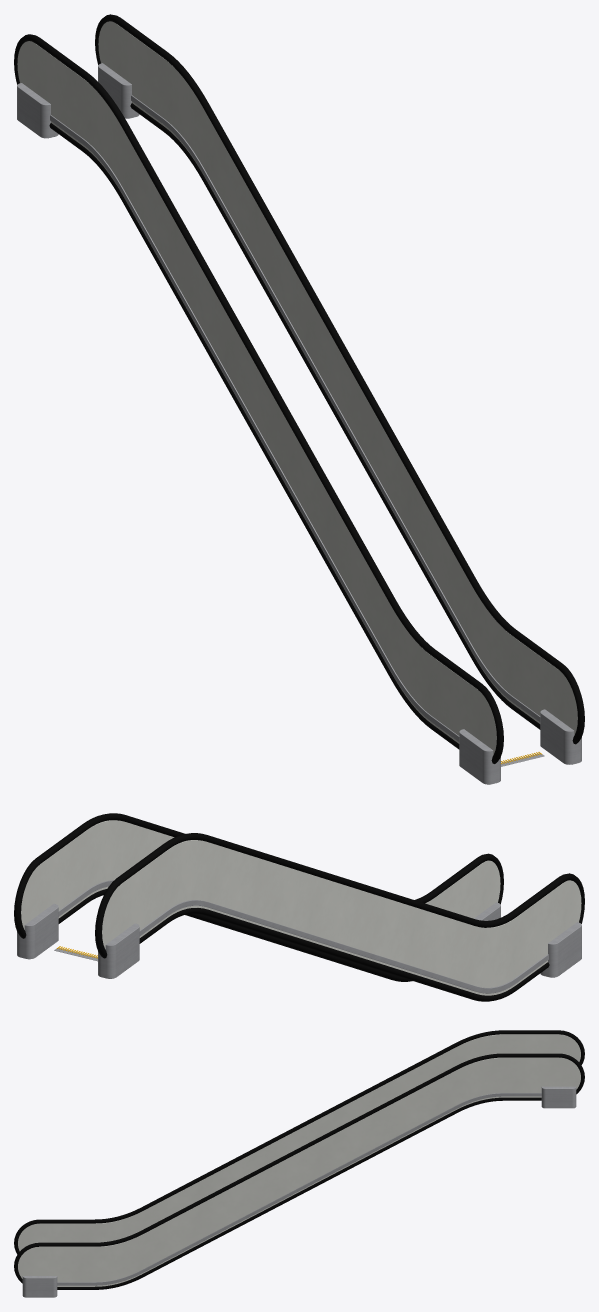
Rendered from gteki_escalator_dress_s600_r3500_panel.glb.
The picture shows the model from 3 angles, top to bottom: view 1: azimuth 30°, elevation 25°; view 2: azimuth 150°, elevation 25°; view 3: azimuth 270°, elevation 25°; orthographic projection. The views are drawn at different scales.
Visible parts, largest first — view 1: VIS_balustrades, VIS_moving_handrails, VIS_balustrade_shoes, VIS_newel_bases; view 2: VIS_balustrades, VIS_moving_handrails, VIS_newel_bases, VIS_balustrade_shoes, VIS_comb_plates; view 3: VIS_balustrades, VIS_moving_handrails, VIS_balustrade_shoes, VIS_newel_bases.
Part boxes in pixels (x1=…): VIS_balustrades: x1=17, y1=21, x2=577, y2=754; VIS_moving_handrails: x1=14, y1=14, x2=584, y2=763; VIS_balustrade_shoes: x1=50, y1=95, x2=540, y2=741; VIS_newel_bases: x1=17, y1=63, x2=581, y2=784; VIS_balustrades: x1=21, y1=820, x2=581, y2=995; VIS_moving_handrails: x1=14, y1=813, x2=584, y2=1001; VIS_newel_bases: x1=17, y1=902, x2=581, y2=978; VIS_balustrade_shoes: x1=58, y1=880, x2=548, y2=993; VIS_comb_plates: x1=54, y1=946, x2=97, y2=961; VIS_balustrades: x1=18, y1=1034, x2=580, y2=1286; VIS_moving_handrails: x1=14, y1=1030, x2=584, y2=1289; VIS_balustrade_shoes: x1=57, y1=1093, x2=541, y2=1285; VIS_newel_bases: x1=22, y1=1086, x2=576, y2=1297.
Bounding box in the file's own units: 1.12 × 4.48 × 9.57.
4 materials, 2 textured.
